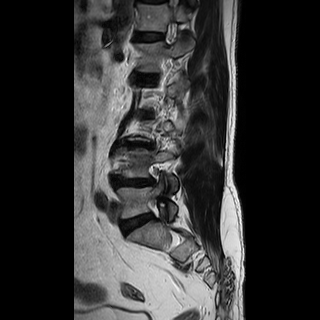LFS1: (141, 192, 169, 227)
